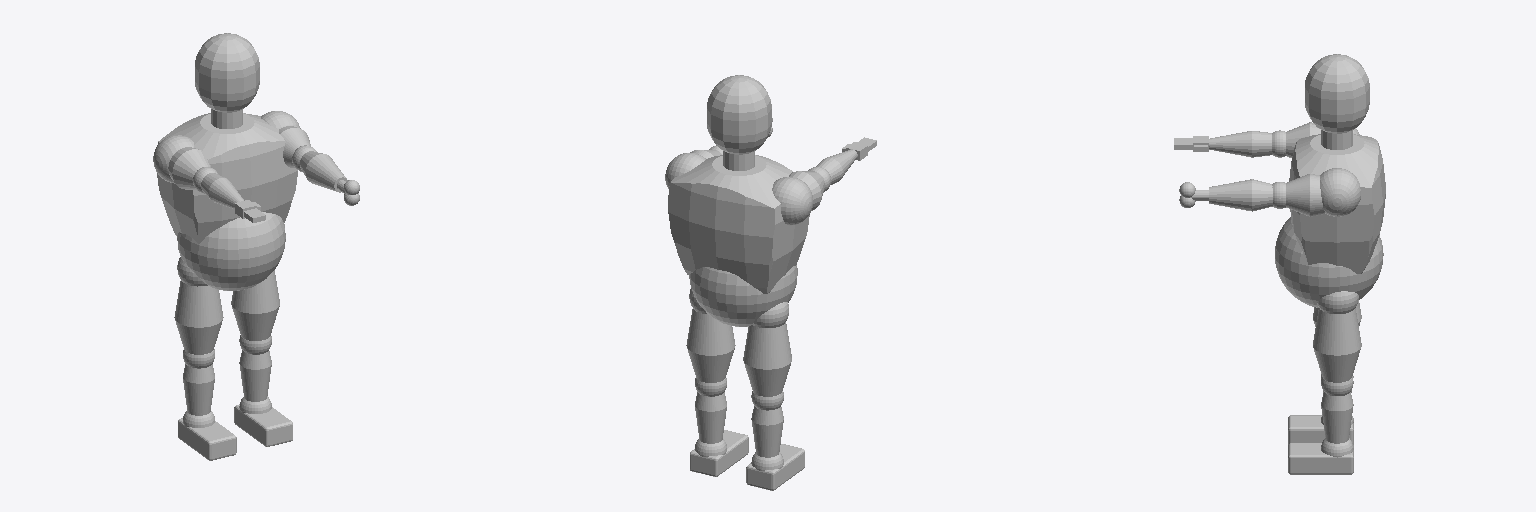
File: Base Zombie (Final).obj
3 renders of one model, left to right at view 1: azimuth 30°, elevation 25°; view 2: azimuth 150°, elevation 25°; view 3: azimuth 270°, elevation 25°, orthographic.
Visible parts, largest first — view 1: Zombie; view 2: Zombie; view 3: Zombie.
Part boxes in pixels (left/top/right/bottom): Zombie: left=153, top=33, right=359, bottom=460; Zombie: left=665, top=75, right=876, bottom=490; Zombie: left=1174, top=54, right=1385, bottom=474.
Bounding box in the file's own units: 30 × 80.5 × 39.